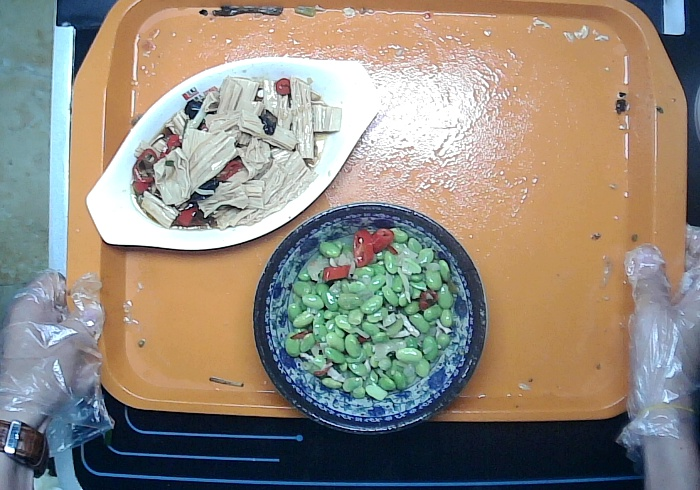ZNLD-Qing_Hua_Wan: (250, 200, 489, 438)
ZNLD-Yu_Pan: (82, 53, 384, 253)
